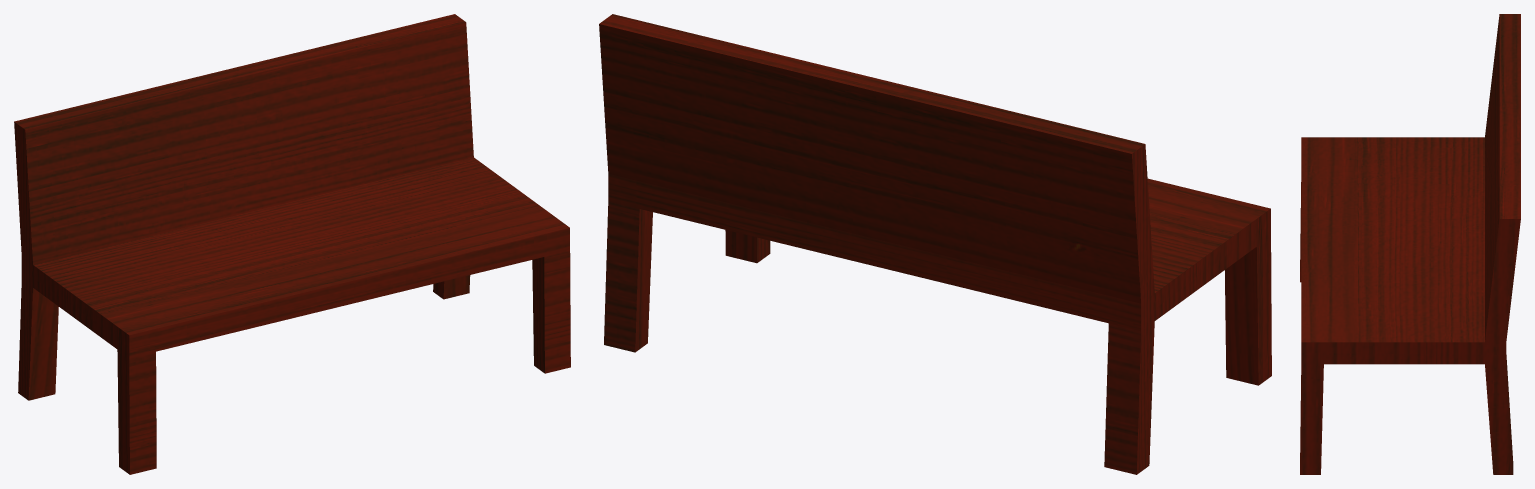
The model's file is bench.gltf.
3 renders of one model, left to right at view 1: azimuth 30°, elevation 25°; view 2: azimuth 150°, elevation 25°; view 3: azimuth 270°, elevation 25°, orthographic. The views are drawn at different scales.
Visible parts, largest first — view 1: bench; view 2: bench; view 3: bench.
Boxes of the visible parts, x1,y1,x2,y2 form: bench: [14, 14, 570, 474]; bench: [599, 14, 1271, 474]; bench: [1300, 14, 1520, 474].
Bounding box in the file's own units: 2.3 × 1.34 × 1.05.
Materials: 1 (1 with a texture image).
